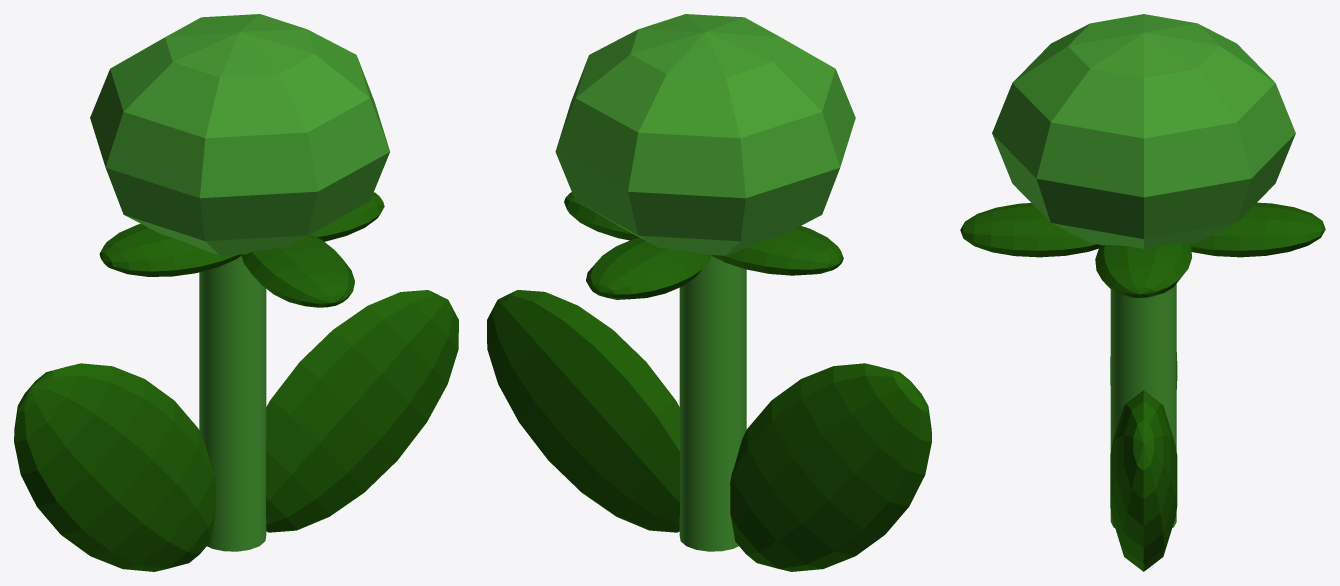
File: kush1.fbx
3 renders of one model, left to right at view 1: azimuth 30°, elevation 25°; view 2: azimuth 150°, elevation 25°; view 3: azimuth 270°, elevation 25°, orthographic. The views are drawn at different scales.
Parts seen in each view (by area): view 1: Kush, LeafBase2, LeafBase1, Stalk, Stalk_Leaf4, Stalk_Leaf1, Stalk_Leaf2; view 2: Kush, LeafBase2, LeafBase1, Stalk, Stalk_Leaf3, Stalk_Leaf1, Stalk_Leaf2; view 3: Kush, LeafBase1, Stalk, Stalk_Leaf4, Stalk_Leaf3, Stalk_Leaf2.
Part boxes in pixels (left/top/right/bottom): Kush: left=90, top=14, right=389, bottom=255; LeafBase2: left=14, top=363, right=215, bottom=571; LeafBase1: left=265, top=290, right=458, bottom=532; Stalk: left=199, top=256, right=266, bottom=551; Stalk_Leaf4: left=241, top=234, right=354, bottom=307; Stalk_Leaf1: left=99, top=223, right=241, bottom=276; Stalk_Leaf2: left=311, top=192, right=384, bottom=241; Kush: left=555, top=14, right=855, bottom=255; LeafBase2: left=730, top=363, right=931, bottom=571; LeafBase1: left=487, top=290, right=680, bottom=532; Stalk: left=679, top=256, right=746, bottom=551; Stalk_Leaf3: left=586, top=237, right=711, bottom=299; Stalk_Leaf1: left=711, top=226, right=843, bottom=275; Stalk_Leaf2: left=564, top=192, right=639, bottom=240; Kush: left=992, top=14, right=1295, bottom=248; LeafBase1: left=1110, top=390, right=1177, bottom=571; Stalk: left=1110, top=284, right=1176, bottom=527; Stalk_Leaf4: left=960, top=203, right=1100, bottom=257; Stalk_Leaf3: left=1190, top=202, right=1325, bottom=257; Stalk_Leaf2: left=1095, top=244, right=1192, bottom=297.
Size of the model in its own units: 3.12 by 3.49 by 2.28.
